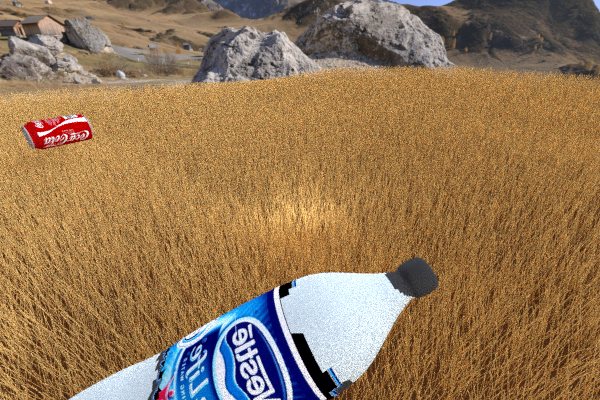bottle: (1, 257, 438, 400)
can: (20, 113, 93, 149), (549, 373, 600, 400)
